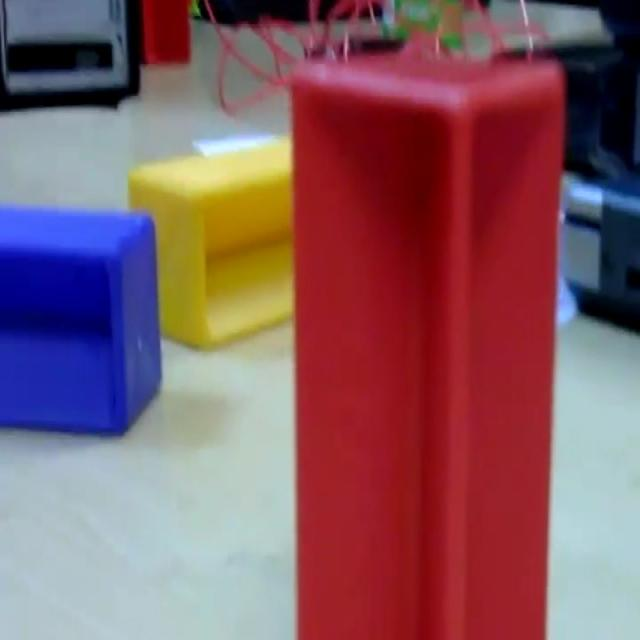blue_block: (0, 200, 162, 436)
red_block: (289, 47, 566, 636)
yellow_block: (127, 132, 294, 349)
